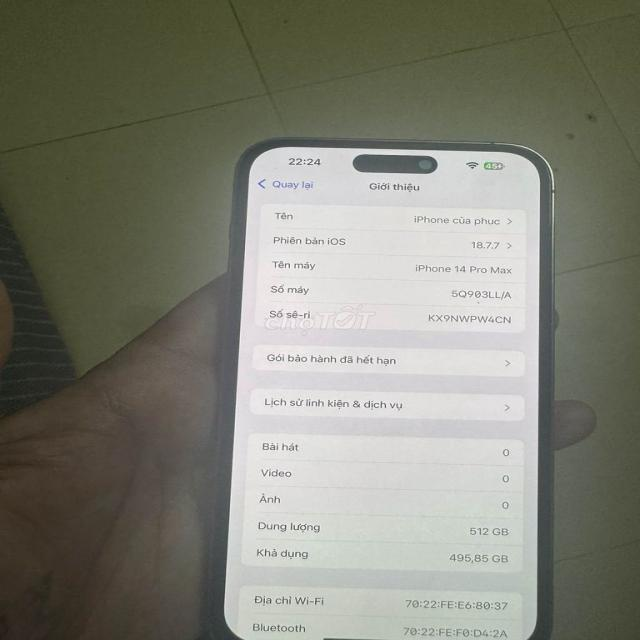gen_14: (205, 134, 567, 640)
